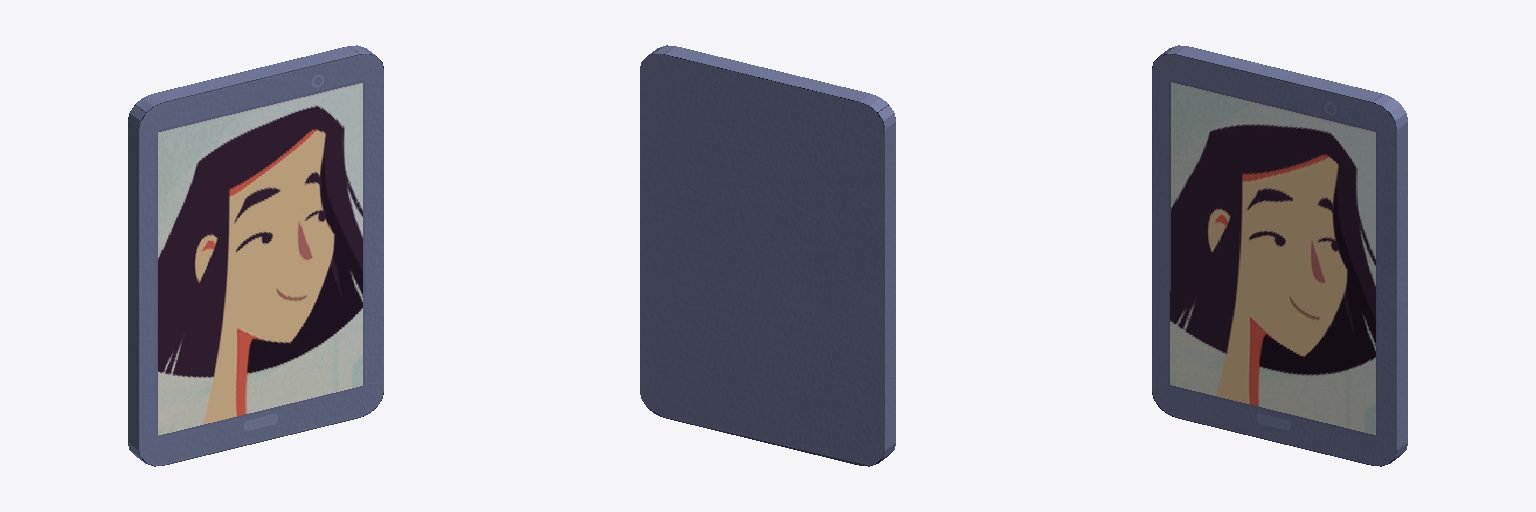
3 renders of one model, left to right at view 1: azimuth 30°, elevation 25°; view 2: azimuth 150°, elevation 25°; view 3: azimuth 330°, elevation 25°, orthographic.
Visible parts, largest first — view 1: pCube1; view 2: pCube1; view 3: pCube1.
Part boxes in pixels (left/top/right/bottom): pCube1: left=128, top=45, right=383, bottom=466; pCube1: left=640, top=45, right=895, bottom=466; pCube1: left=1152, top=45, right=1407, bottom=466.
Bounding box in the file's own units: 0.7063 × 1 × 0.056.
1 materials, 1 textured.